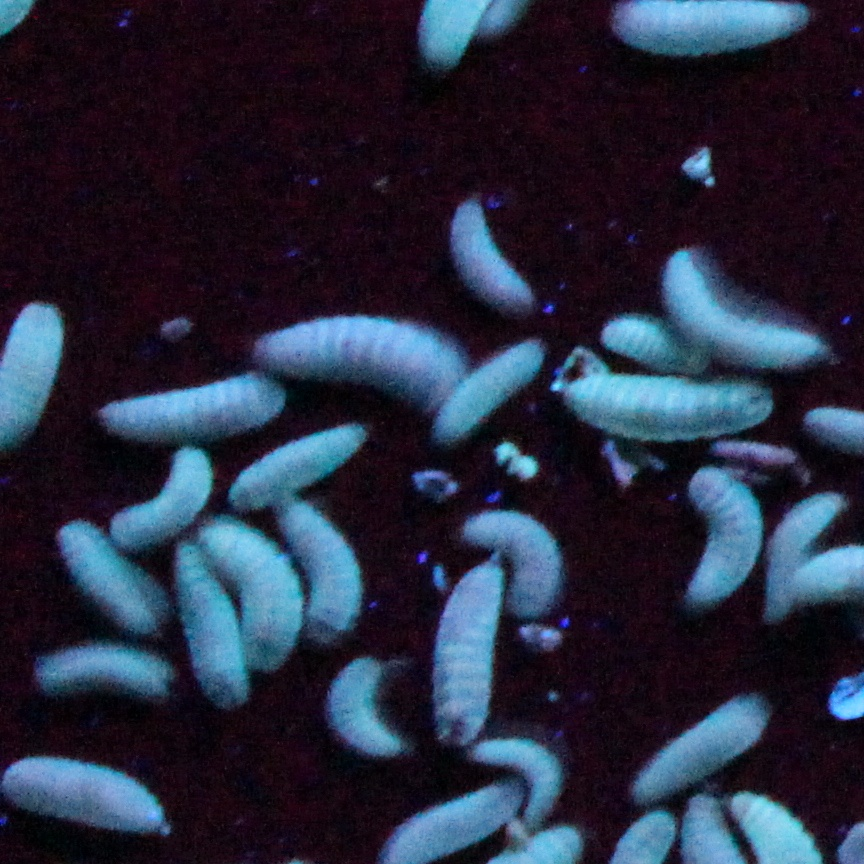larve: (250, 305, 466, 398), (664, 252, 822, 365), (50, 512, 164, 638), (210, 516, 299, 672), (633, 698, 766, 800), (4, 756, 170, 834), (99, 443, 213, 549), (93, 374, 290, 434), (273, 507, 364, 636), (459, 507, 564, 616), (438, 562, 500, 742), (686, 463, 764, 605), (177, 543, 244, 705), (444, 196, 537, 312), (615, 0, 815, 53), (319, 660, 408, 760), (230, 440, 368, 503), (467, 736, 561, 820), (35, 647, 177, 696), (773, 498, 837, 563)
